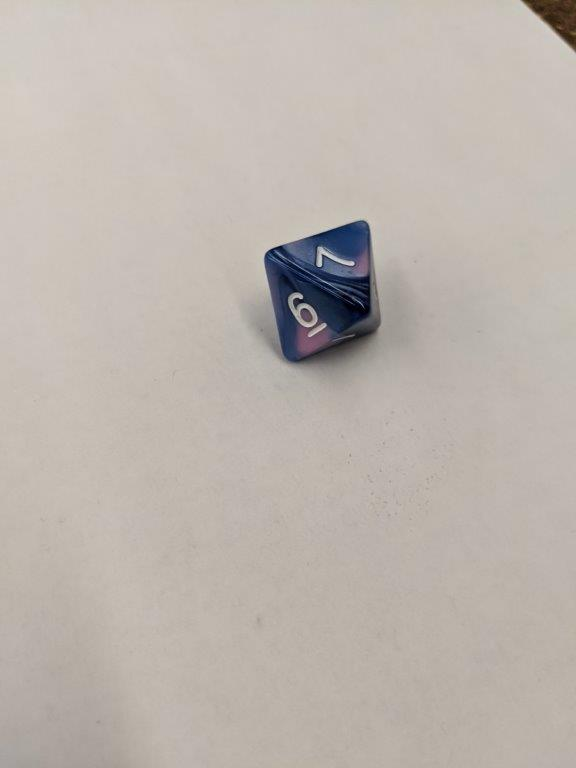d8-7: (262, 220, 384, 363)
